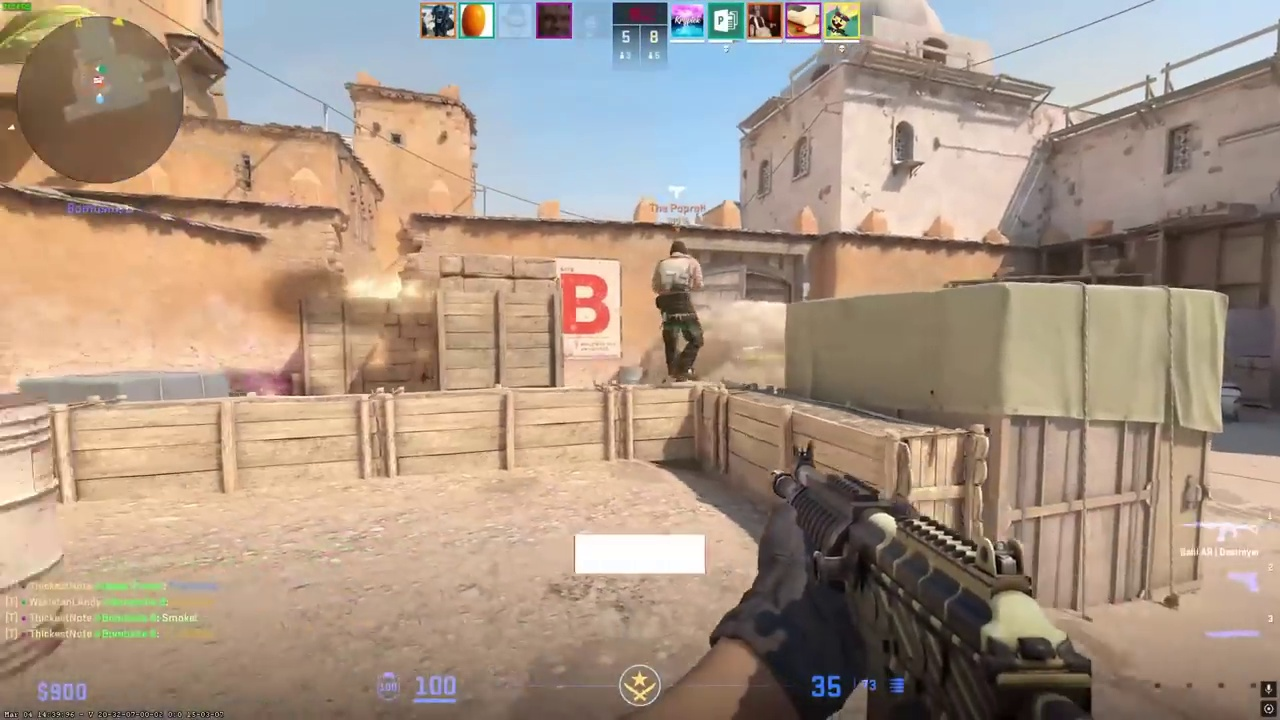Terrorist: (652, 241, 704, 382)
